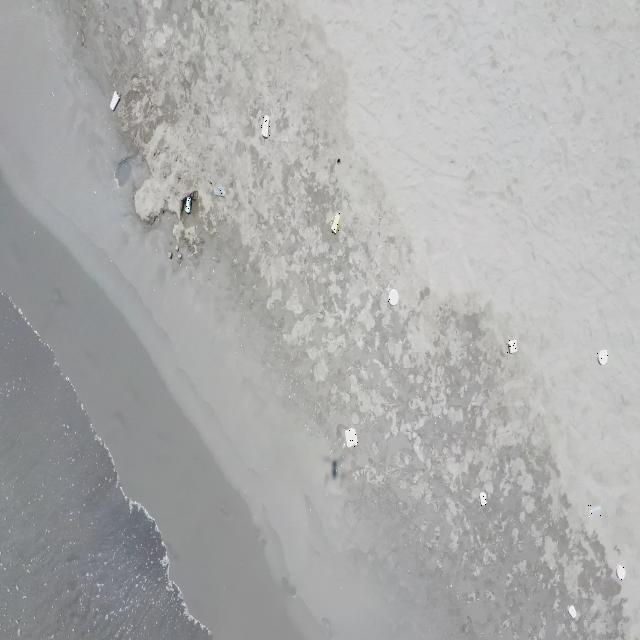take-away-containers: (344, 428, 358, 447), (597, 349, 608, 366), (388, 289, 399, 306), (616, 564, 625, 581), (506, 339, 516, 354), (568, 604, 577, 620), (479, 492, 487, 506)
takeaway-cup: (109, 91, 121, 111), (261, 114, 270, 138), (331, 213, 340, 234), (212, 185, 225, 198), (588, 504, 601, 517), (184, 198, 191, 213)
